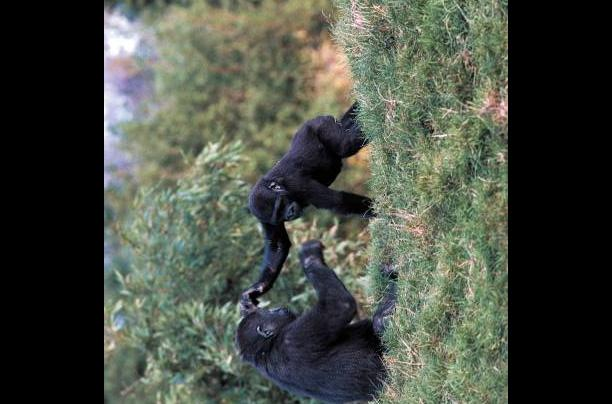gorille_Autres: (218, 95, 398, 402)
